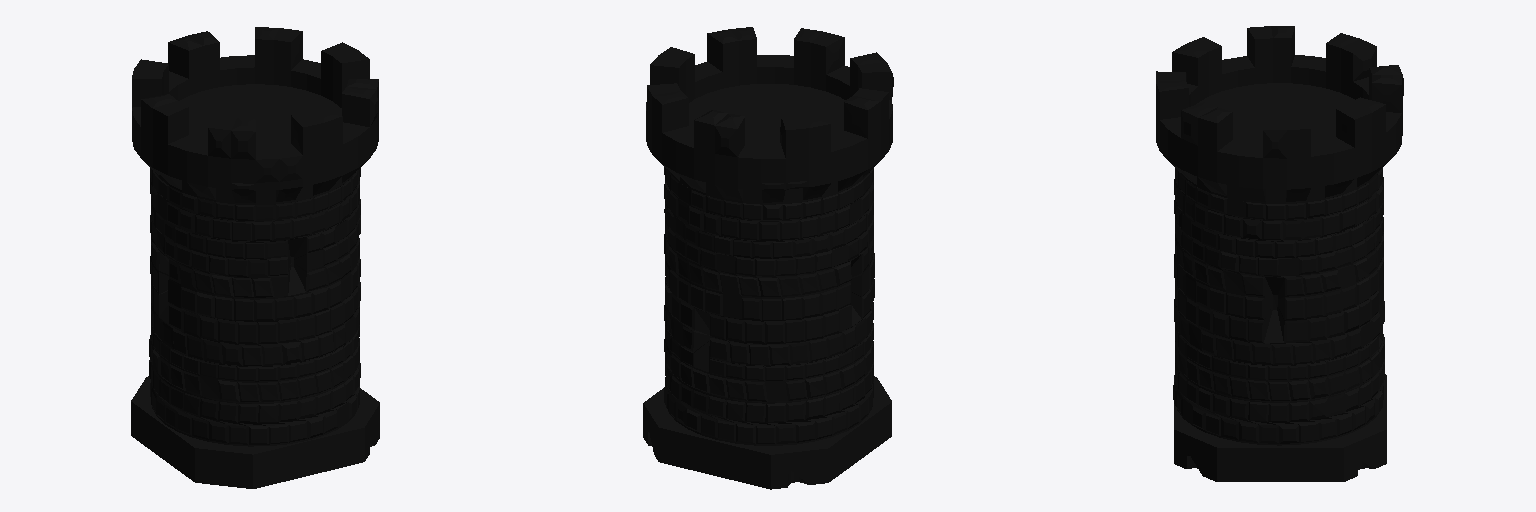
Rendered from tourTextUnit.obj.
3 views of the same model, side by side, from view 1: azimuth 30°, elevation 25°; view 2: azimuth 150°, elevation 25°; view 3: azimuth 270°, elevation 25° (orthographic).
Visible parts, largest first — view 1: tour_Cube.005; view 2: tour_Cube.005; view 3: tour_Cube.005.
Part boxes in pixels (x1,y1,x2,y2): tour_Cube.005: (131, 27, 379, 488); tour_Cube.005: (643, 27, 893, 489); tour_Cube.005: (1156, 26, 1403, 481).
Bounding box in the file's own units: 29.01 × 46.43 × 28.93.